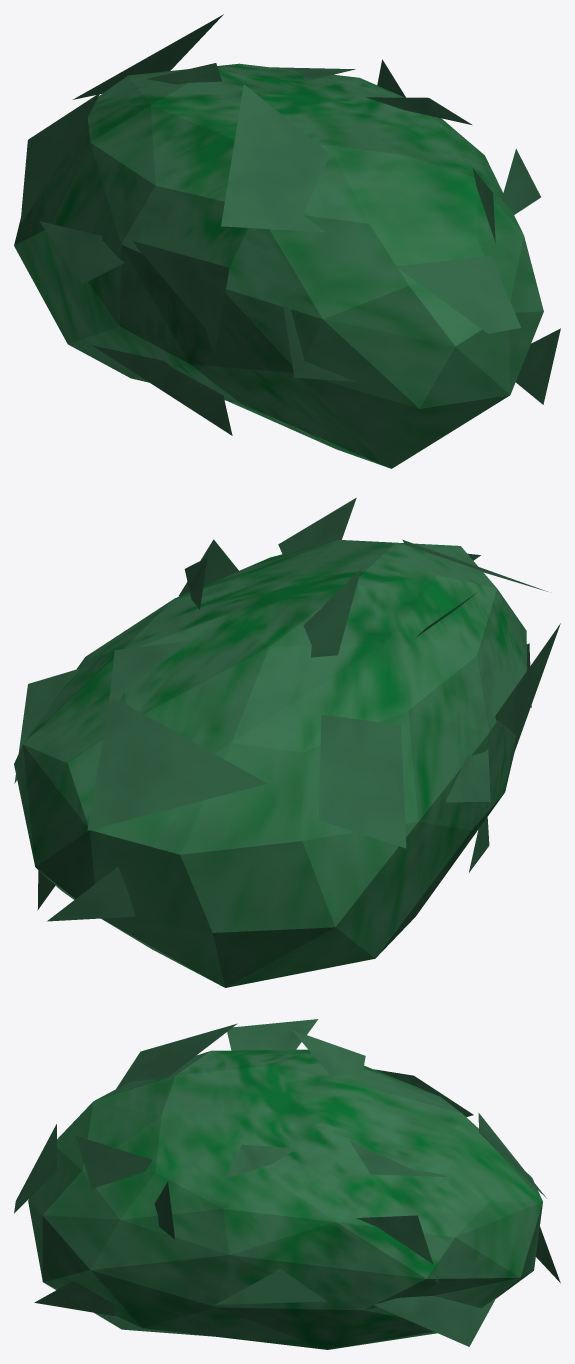
The model's file is Bush3.fbx.
3 renders of one model, top to bottom at view 1: azimuth 30°, elevation 25°; view 2: azimuth 150°, elevation 25°; view 3: azimuth 270°, elevation 25°, orthographic. The views are drawn at different scales.
Visible parts, largest first — view 1: Bush3; view 2: Bush3; view 3: Bush3.
Boxes of the visible parts, box(x1,y1,x2,y2) form: Bush3: box(14, 14, 560, 468); Bush3: box(14, 497, 560, 987); Bush3: box(14, 1019, 560, 1349).
Bounding box in the file's own units: 0.8054 × 0.6126 × 1.15.
